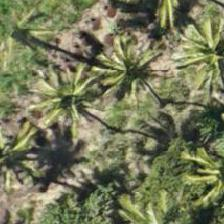coconut_tree: (15, 49, 105, 139), (79, 17, 169, 107), (0, 107, 54, 197), (175, 2, 223, 92)
